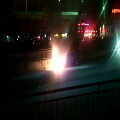fire: (46, 45, 65, 74)
